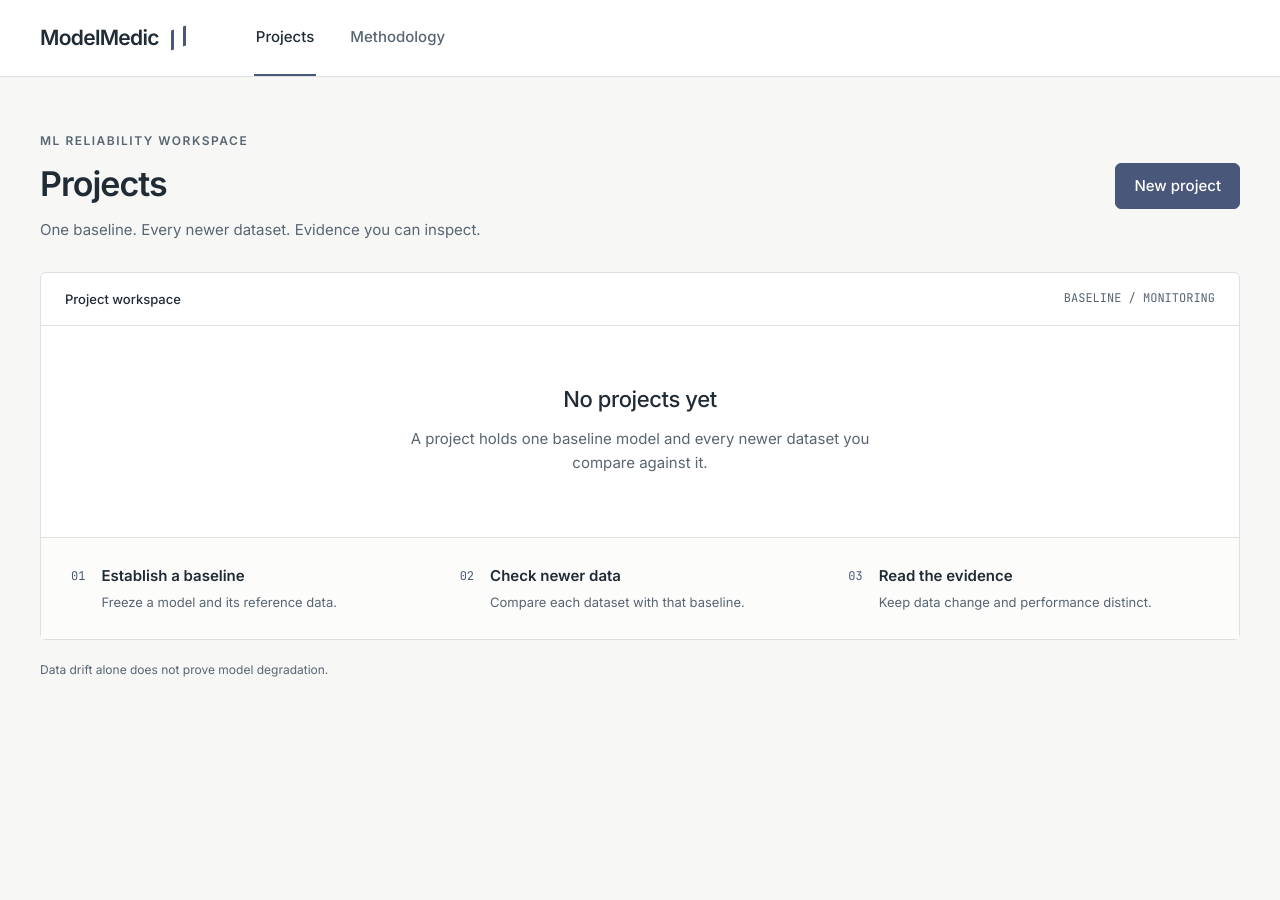
Scenario: M0 shell › navigates with accessible links and restores reading context
What coordinates should you click on to do the following:
click the link "Methodology"
I would click on:
 (398, 36)
Its box is x1=350 y1=27 x2=445 y2=46.
(page scrolled)
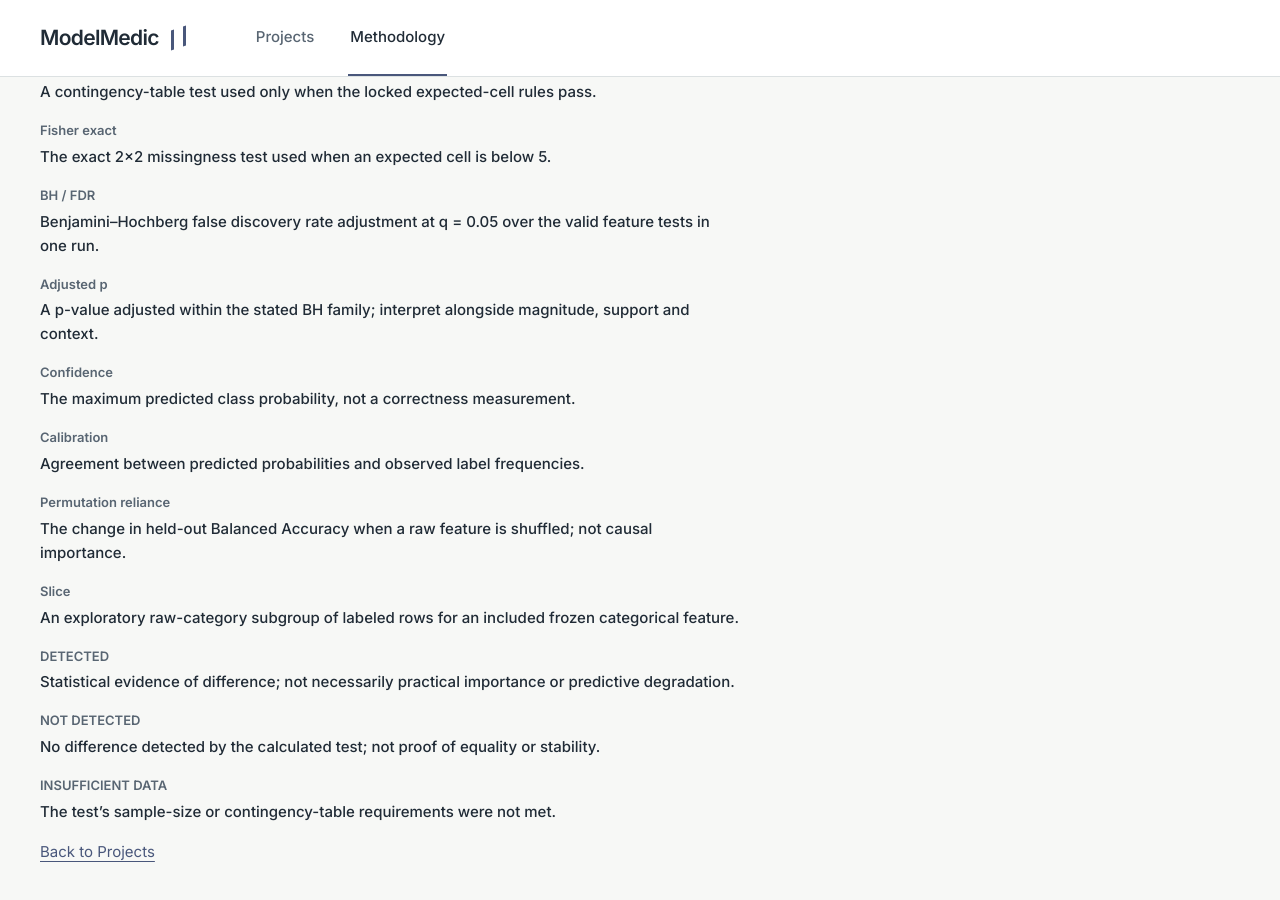
What coordinates should you click on to do the following:
click the link "Back to Projects"
I would click on:
 (97, 852)
Its box is x1=40 y1=842 x2=155 y2=861.
(page scrolled)
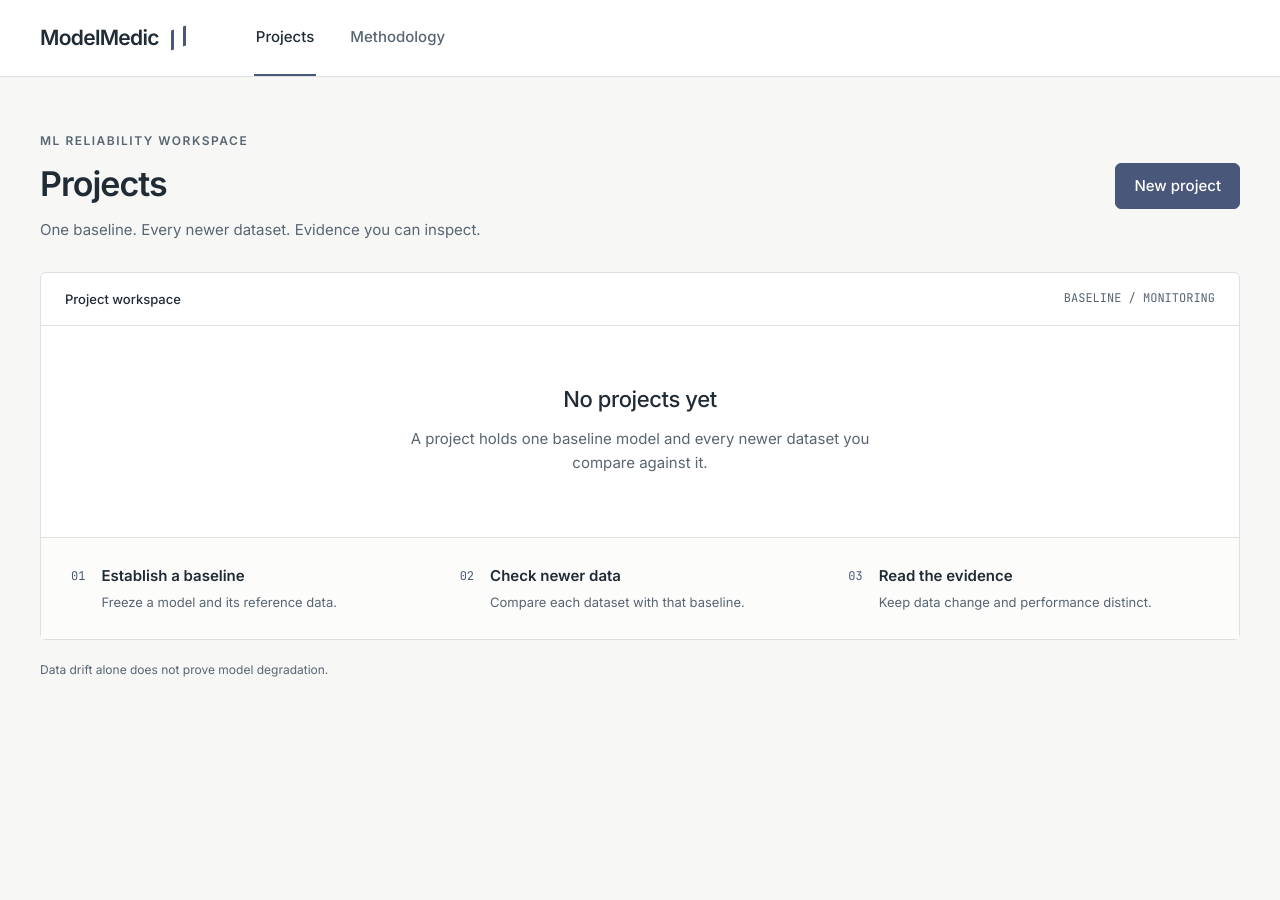
Expected: the heading "Projects" is shown, x1=40 y1=163 x2=167 y2=204
